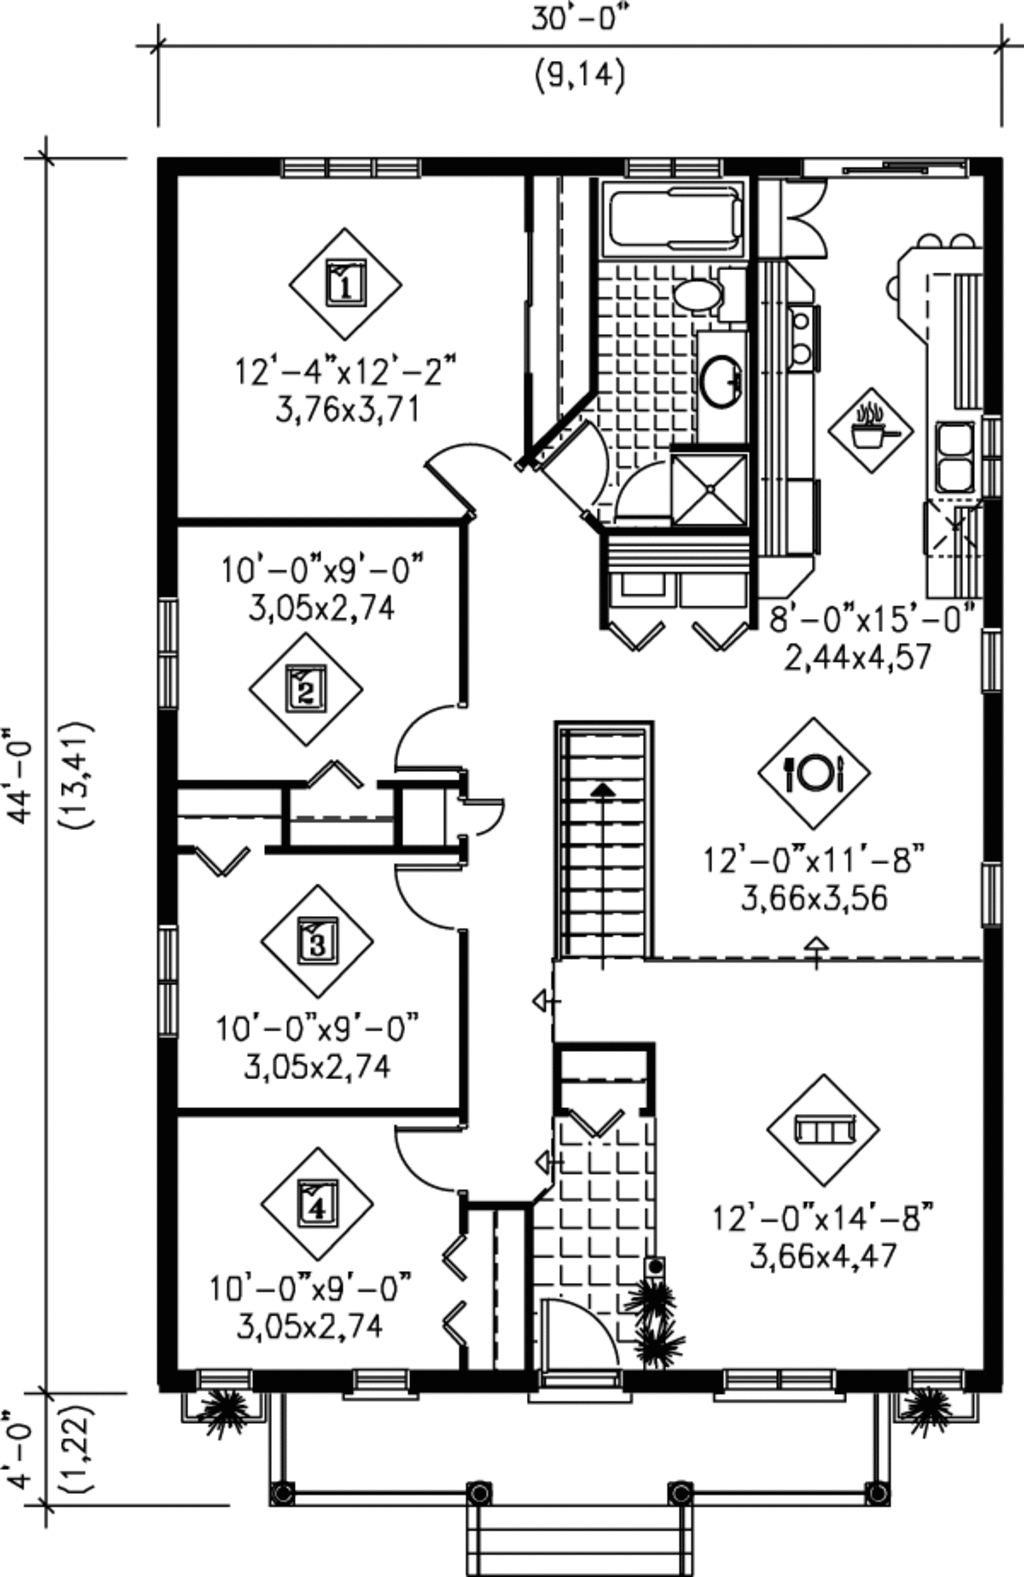door: (369, 1103, 483, 1211), (528, 1292, 637, 1399), (530, 416, 619, 514), (371, 867, 476, 940), (413, 433, 522, 499), (764, 166, 830, 260), (386, 706, 471, 770)
kitchen_bar: (881, 231, 991, 416)
large_sink: (673, 253, 761, 334)
small_sink: (688, 323, 747, 448)
stairs: (513, 677, 679, 972)
tub: (605, 170, 749, 260)
twin_sink: (910, 406, 988, 494)
window: (691, 1353, 852, 1414), (144, 587, 205, 723), (283, 145, 432, 194), (144, 926, 200, 1028), (973, 614, 1024, 725), (332, 1348, 415, 1416), (961, 857, 1024, 938)
